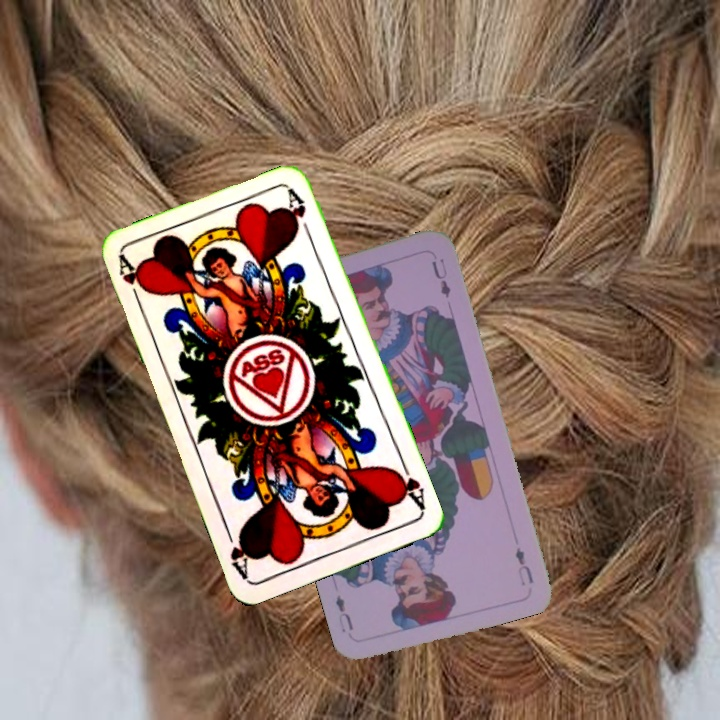EU: (511, 543, 536, 589)
HA: (389, 456, 428, 513), (114, 252, 151, 310)
